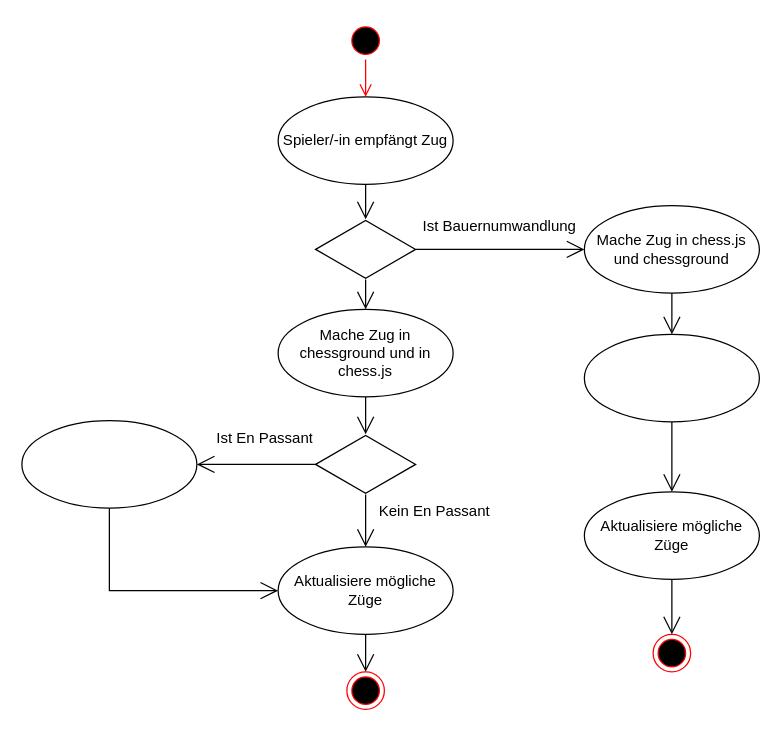
Some shapes in this 781 by 731 pixel diagram are drawn without their labels. The shapes that lost their labels are listed below. From the top down, each one's centre as x and y in pixels, then its label:
At (671,377): "Ersetze Bauern mit umgewandelter Figur in chessground".
At (109,463): "Lösche geschlagenen Bauern in chessground".
